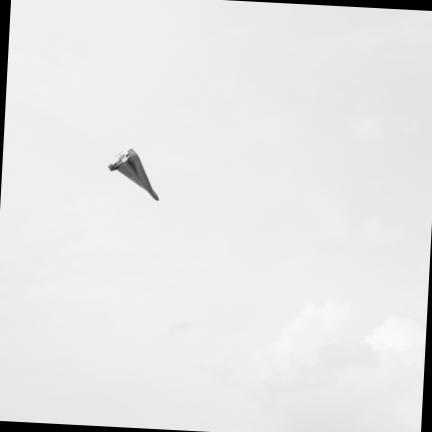Shahed: (109, 149, 158, 200)
